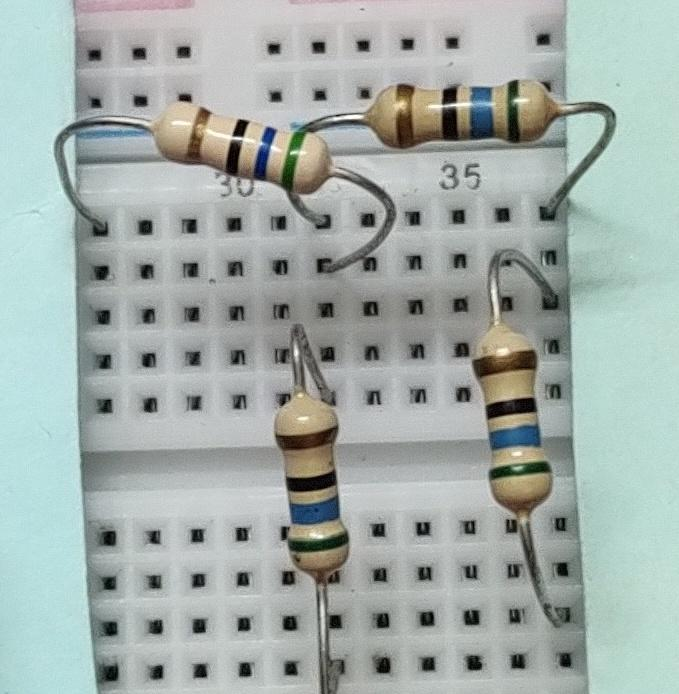resistor: (263, 380, 369, 594), (136, 92, 337, 202), (463, 313, 562, 524), (359, 79, 563, 163)
